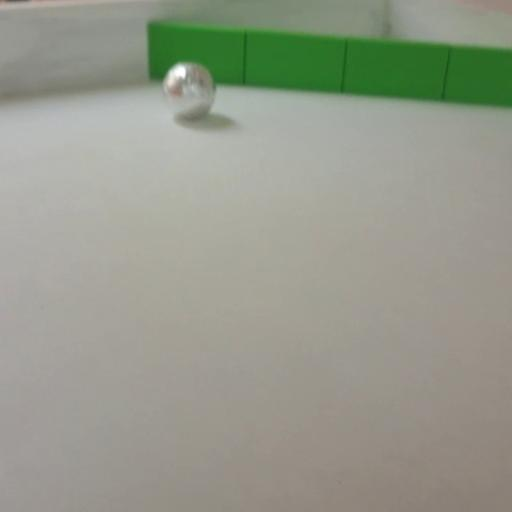alive: (161, 59, 218, 120)
